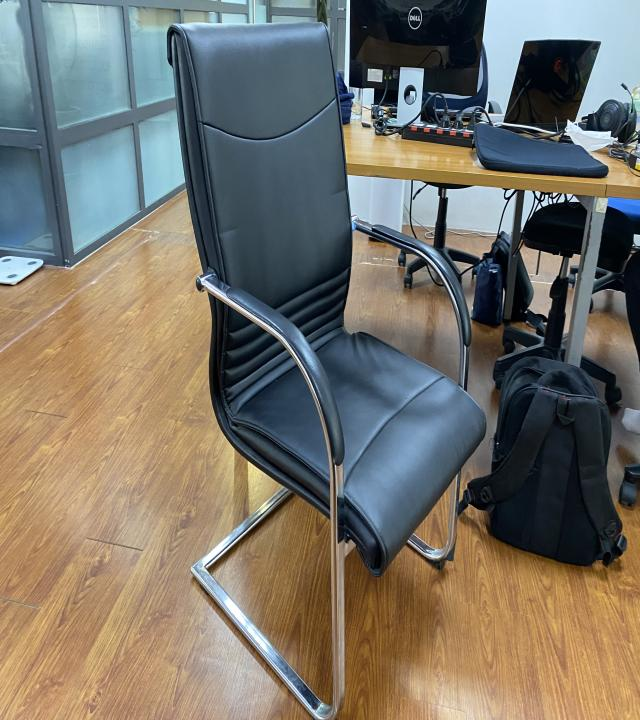SS_03: (164, 17, 488, 719)
